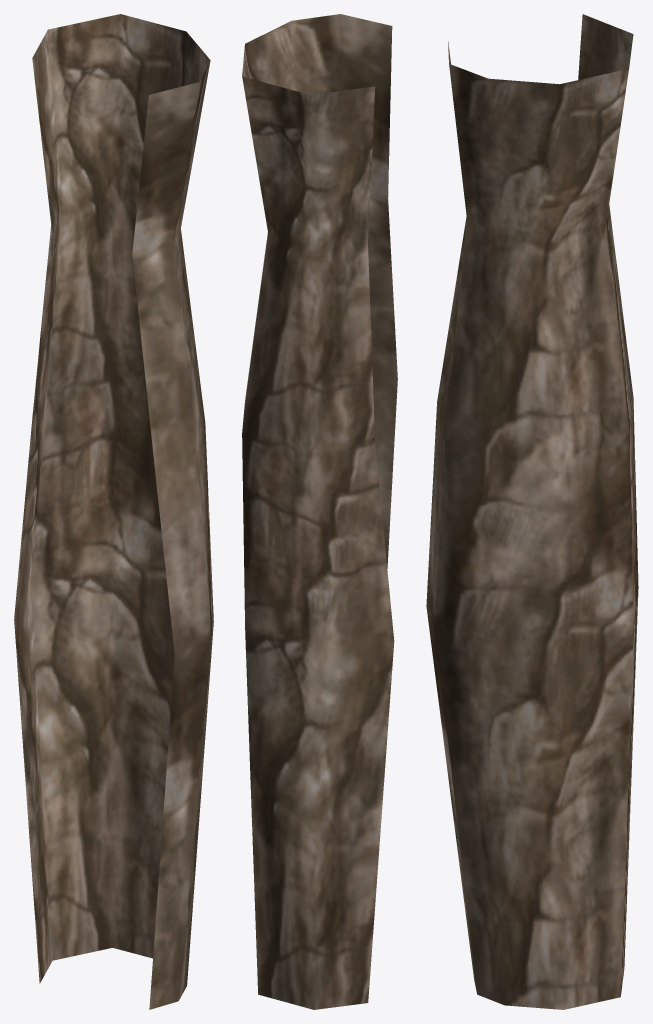
File: OVERHILL_A_01_LINE344.fbx
3 views of the same model, side by side, from view 1: azimuth 30°, elevation 25°; view 2: azimuth 150°, elevation 25°; view 3: azimuth 270°, elevation 25° (orthographic).
Parts seen in each view (by area): view 1: OVERHILL_A_01_LINE344; view 2: OVERHILL_A_01_LINE344; view 3: OVERHILL_A_01_LINE344.
Boxes of the visible parts, box(x1,y1,x2,y2) form: OVERHILL_A_01_LINE344: box(14, 14, 213, 1009); OVERHILL_A_01_LINE344: box(242, 14, 397, 1009); OVERHILL_A_01_LINE344: box(426, 14, 638, 1009).
Size of the model in its own units: 19861 by 109001 by 22423.
Materials: 1 (1 with a texture image).
